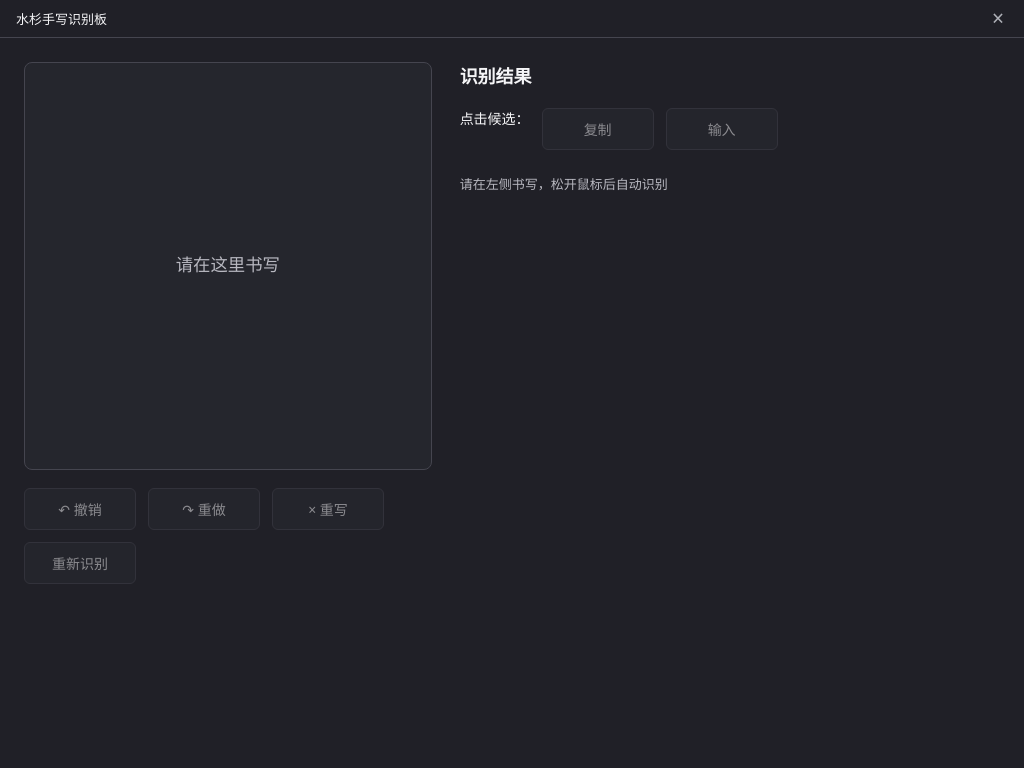
Test case: an empty result on windows says 未识别到内容，请确认已安装中文手写包
Press the mouse on the icon named "手写画布" at (228, 266), box [24,62,432,470]
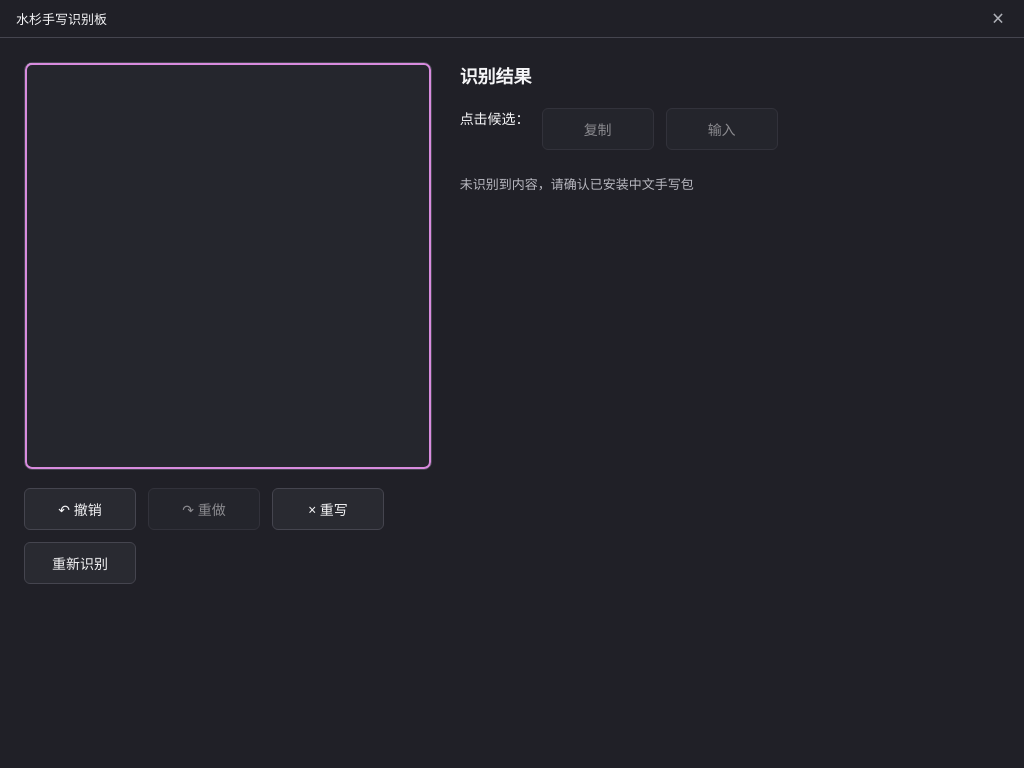
Expected: the text "未识别到内容，请确认已安装中文手写包" is shown, [460,175,694,193]
